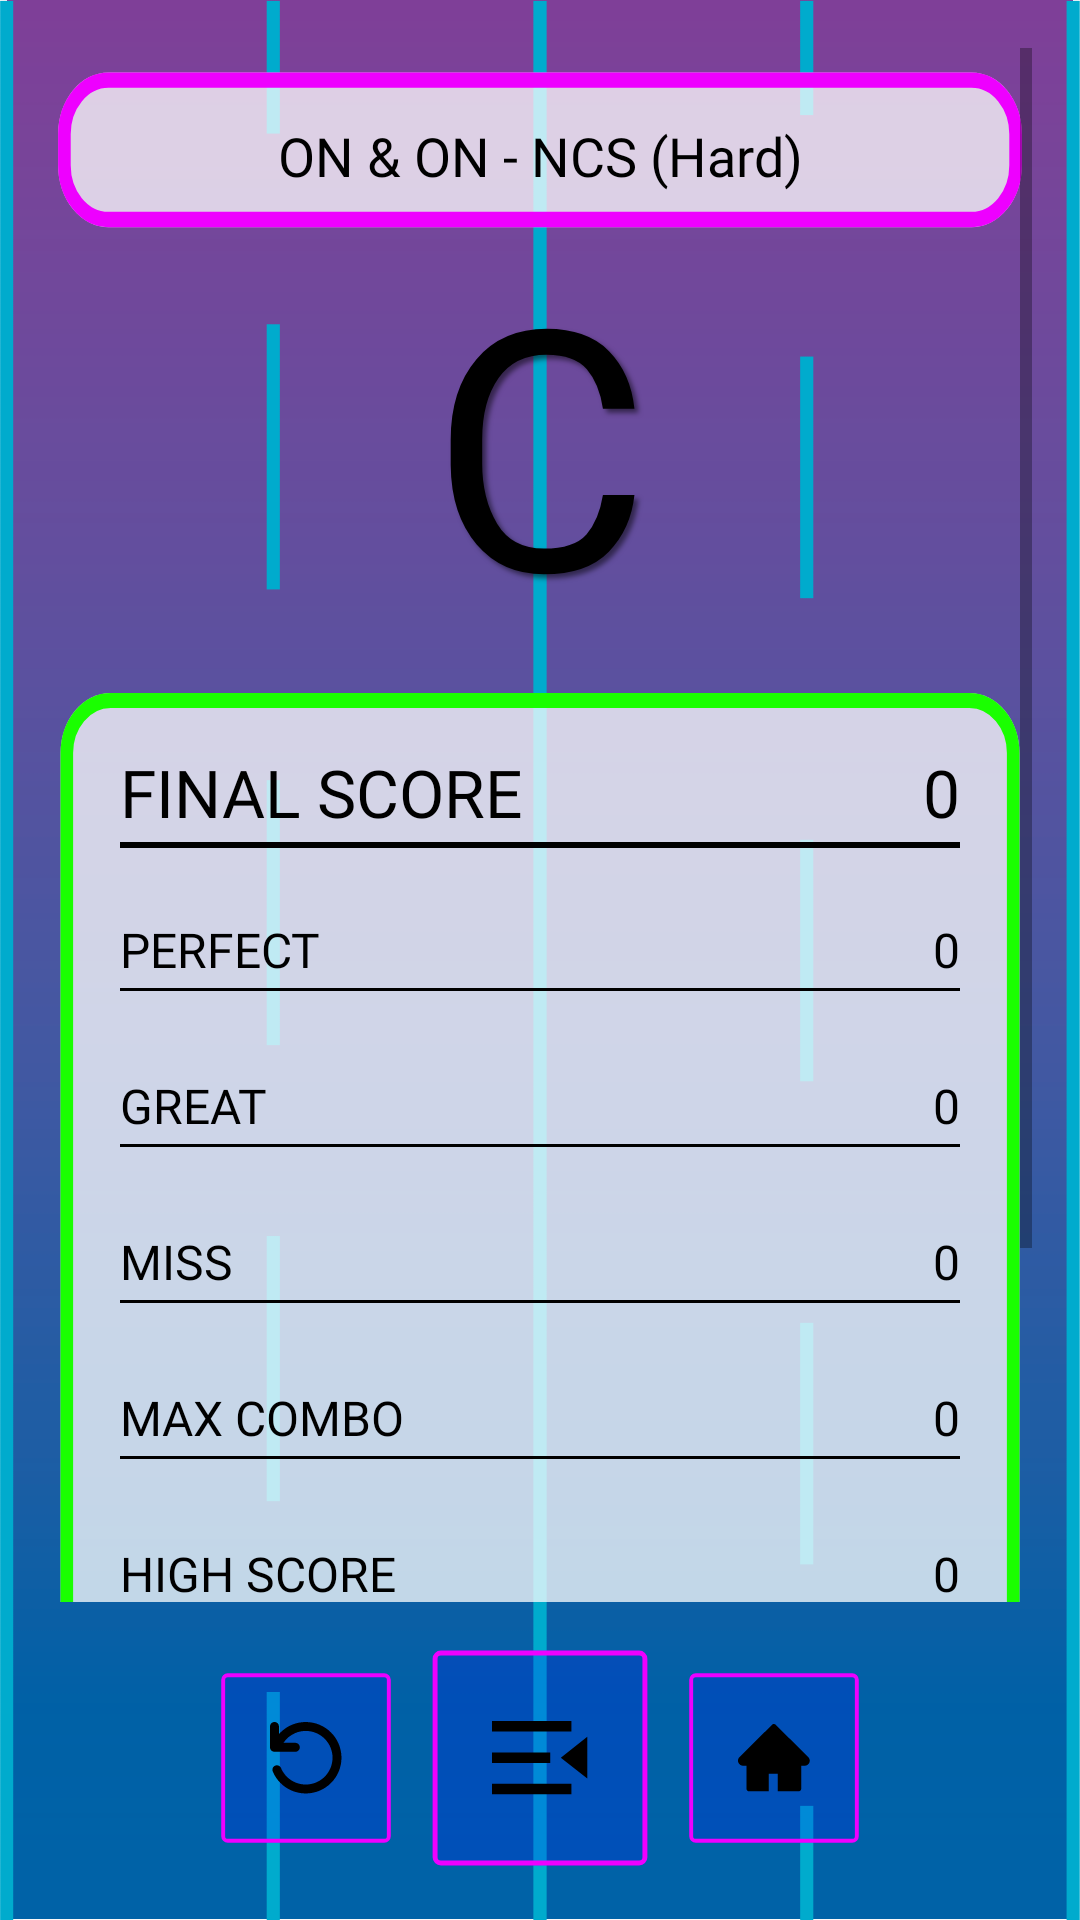

Icons on this 1080×1920 Android screen, each with its box as {"left": x1, "top": y1, "right": x2, "bottom": y2}:
Home: {"left": 689, "top": 1673, "right": 859, "bottom": 1848}
Retry: {"left": 221, "top": 1673, "right": 391, "bottom": 1848}
